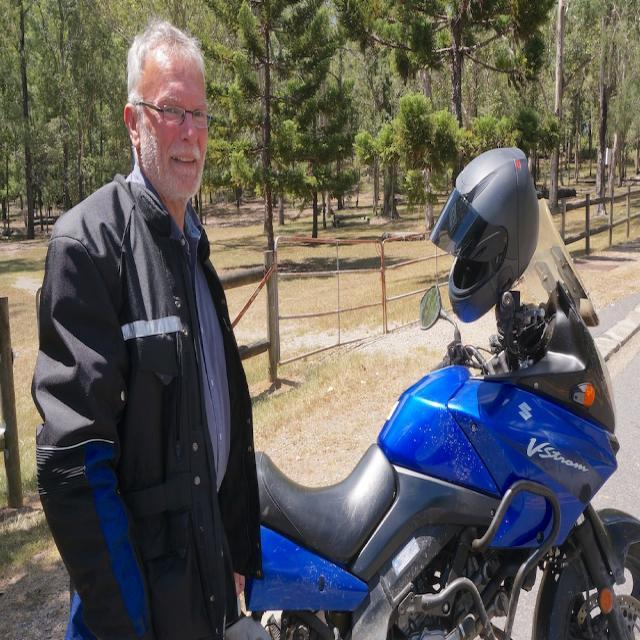No helmet: (114, 29, 228, 204)
